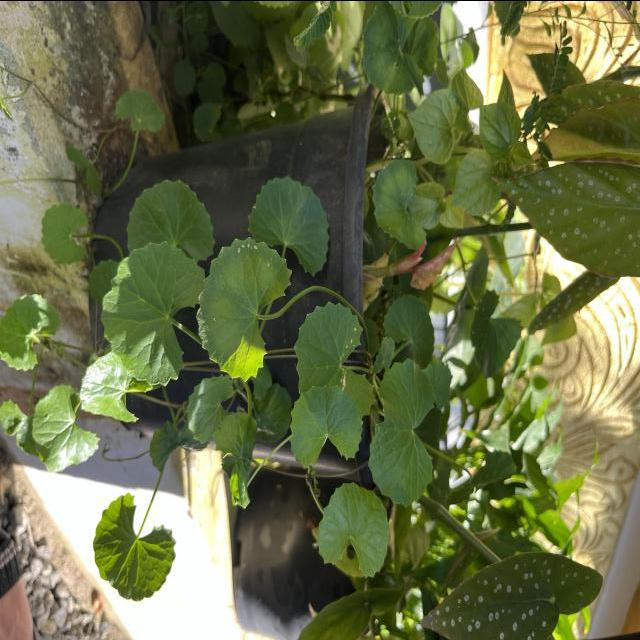Centella asiatica: (98, 238, 208, 388), (194, 233, 294, 384), (366, 356, 438, 508), (293, 298, 378, 420), (92, 489, 178, 604), (316, 478, 391, 580), (288, 382, 366, 470)
